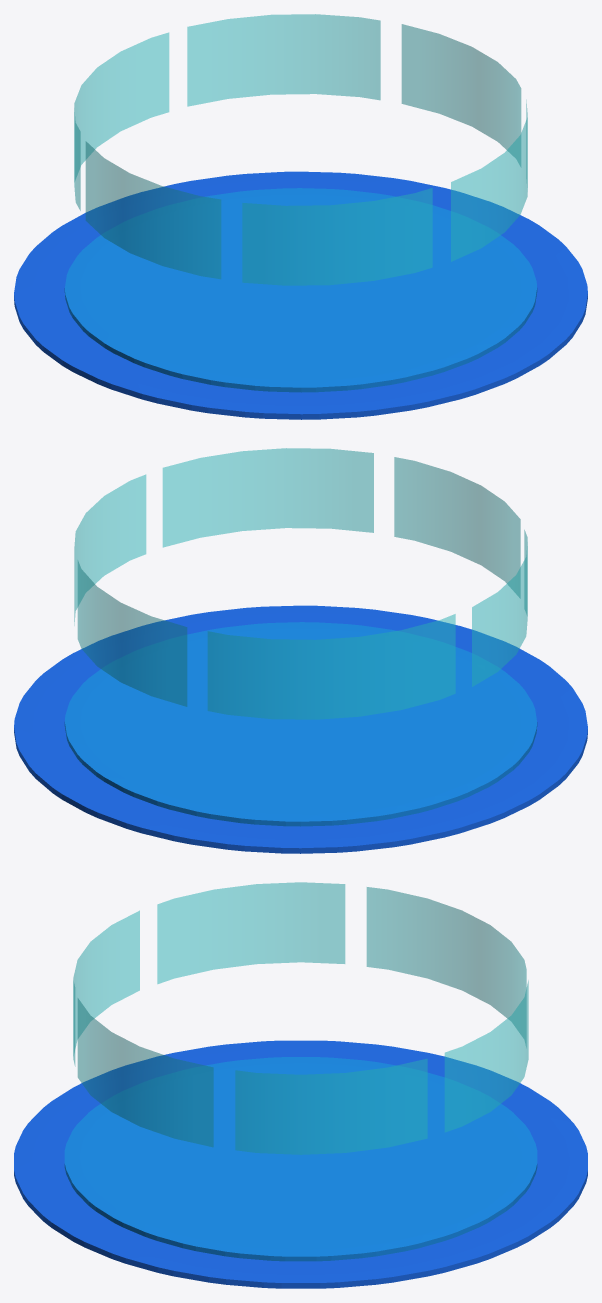
3 renders of one model, top to bottom at view 1: azimuth 30°, elevation 25°; view 2: azimuth 150°, elevation 25°; view 3: azimuth 270°, elevation 25°, orthographic.
Parts seen in each view (by area): view 1: 柱体, 圆环, 柱体.001; view 2: 柱体, 圆环, 柱体.001; view 3: 柱体, 圆环, 柱体.001.
Part boxes in pixels (x1=…): 柱体: x1=64, y1=188, x2=537, y2=392; 圆环: x1=74, y1=14, x2=527, y2=285; 柱体.001: x1=14, y1=171, x2=587, y2=419; 柱体: x1=64, y1=622, x2=537, y2=826; 圆环: x1=74, y1=448, x2=527, y2=719; 柱体.001: x1=14, y1=605, x2=587, y2=853; 柱体: x1=64, y1=1057, x2=537, y2=1261; 圆环: x1=73, y1=882, x2=528, y2=1154; 柱体.001: x1=14, y1=1040, x2=587, y2=1288.
Size of the model in its own units: 16.1 by 5.85 by 16.1.
